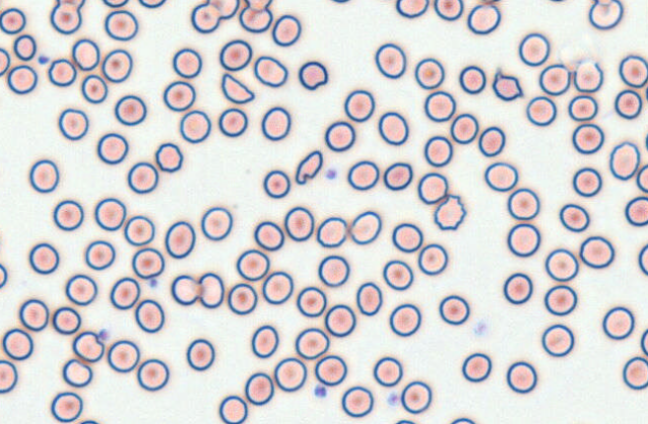PLT: (313, 385, 329, 400), (325, 167, 338, 181), (387, 392, 400, 406), (99, 329, 112, 342), (38, 56, 49, 66), (147, 277, 158, 287)
RBC: (609, 141, 640, 180), (273, 357, 307, 392), (433, 194, 466, 230), (164, 220, 195, 258), (506, 223, 540, 257), (579, 235, 614, 268), (374, 42, 406, 78), (544, 248, 578, 281), (541, 323, 574, 357), (294, 327, 329, 359), (507, 187, 540, 220), (136, 358, 169, 391), (236, 248, 269, 281), (107, 339, 140, 372), (349, 210, 381, 244), (261, 270, 293, 304), (400, 380, 432, 414), (518, 32, 550, 66), (104, 9, 138, 41), (94, 197, 126, 231), (543, 284, 577, 316), (200, 206, 232, 240), (602, 306, 634, 340), (179, 109, 211, 143), (343, 89, 375, 122), (324, 304, 356, 337), (314, 354, 347, 386), (423, 90, 456, 122), (389, 303, 421, 336), (131, 247, 164, 279), (219, 39, 252, 71), (467, 3, 501, 34), (101, 48, 132, 82), (284, 206, 314, 241), (29, 158, 59, 193), (588, 0, 623, 30), (317, 254, 349, 286), (341, 385, 373, 417), (96, 132, 128, 164), (109, 276, 140, 309), (162, 80, 195, 111), (18, 298, 49, 331), (506, 360, 537, 393), (50, 391, 83, 422), (378, 111, 408, 145), (484, 161, 518, 191), (134, 299, 164, 333), (261, 106, 291, 140), (539, 63, 570, 95), (417, 172, 448, 204), (50, 2, 81, 34), (417, 243, 448, 275), (572, 123, 604, 154), (127, 161, 158, 193), (65, 274, 97, 305), (2, 328, 33, 360), (28, 242, 59, 274), (114, 94, 146, 125), (244, 372, 274, 405), (227, 282, 257, 315), (573, 59, 603, 92), (618, 54, 648, 87), (382, 259, 413, 290), (123, 215, 154, 246), (438, 294, 469, 325), (84, 239, 115, 270), (525, 95, 556, 126), (253, 220, 284, 251), (52, 199, 83, 230), (324, 120, 355, 151), (316, 216, 347, 247), (391, 222, 423, 252), (347, 160, 379, 190), (414, 57, 444, 89), (58, 108, 88, 140), (271, 14, 301, 46), (186, 338, 215, 371), (238, 5, 272, 33), (251, 324, 279, 358), (198, 272, 224, 308), (170, 274, 200, 305), (296, 286, 326, 317), (190, 2, 220, 33), (172, 47, 202, 78), (423, 135, 452, 167), (503, 272, 532, 304), (71, 38, 100, 70), (355, 281, 382, 315), (7, 64, 37, 94), (372, 356, 402, 386), (572, 167, 602, 197), (461, 352, 491, 382), (218, 107, 248, 137), (622, 356, 648, 390), (559, 203, 589, 232), (450, 113, 478, 144), (383, 161, 412, 190), (47, 58, 76, 87), (155, 142, 183, 172), (218, 395, 248, 423), (614, 89, 642, 119), (478, 126, 505, 157), (52, 306, 81, 334), (262, 169, 290, 198), (568, 94, 598, 121), (459, 65, 486, 94), (81, 74, 107, 103), (0, 7, 26, 34), (624, 196, 647, 226), (0, 359, 18, 393), (433, 0, 463, 20), (13, 34, 36, 60), (395, 0, 428, 18), (208, 0, 239, 19), (636, 163, 648, 193), (638, 242, 648, 275), (244, 0, 272, 11), (0, 47, 10, 76), (55, 0, 85, 9), (640, 327, 648, 356), (138, 0, 166, 8), (102, 0, 128, 8), (0, 263, 7, 288), (448, 417, 475, 423), (394, 418, 418, 424), (476, 0, 502, 5), (75, 419, 100, 424), (644, 129, 648, 153), (0, 229, 3, 254), (374, 0, 396, 3), (329, 0, 351, 3), (645, 84, 648, 102), (546, 0, 571, 2)
Schistocyte: (254, 56, 290, 87), (294, 148, 323, 186), (222, 73, 254, 103), (73, 332, 104, 362), (63, 359, 94, 389), (300, 60, 328, 92), (493, 72, 525, 100)
